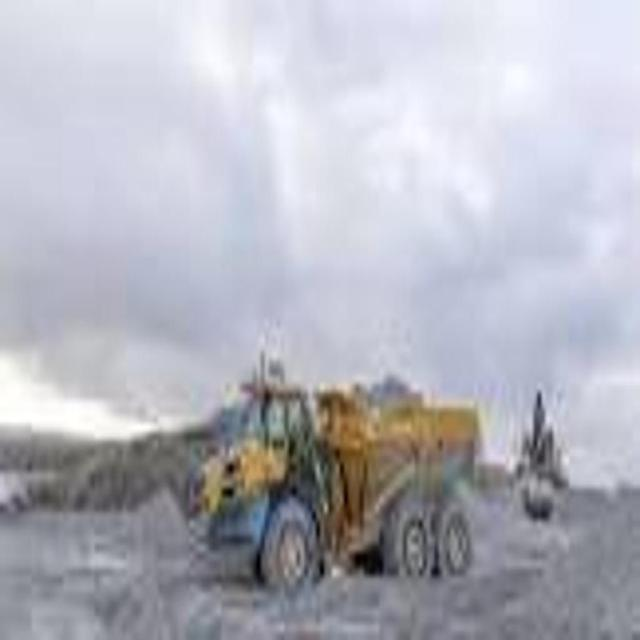dump_truck: (193, 345, 488, 602)
